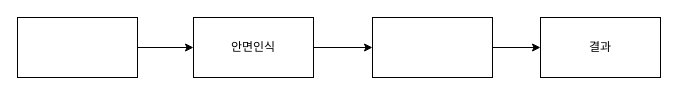
This 678x95 diagram has some shape labels left out. Each missing label, with the box of its shape:
스마트 운수 솔루션 출근하기 클릭: (16, 16, 138, 78)
음주측정: (372, 16, 492, 78)
